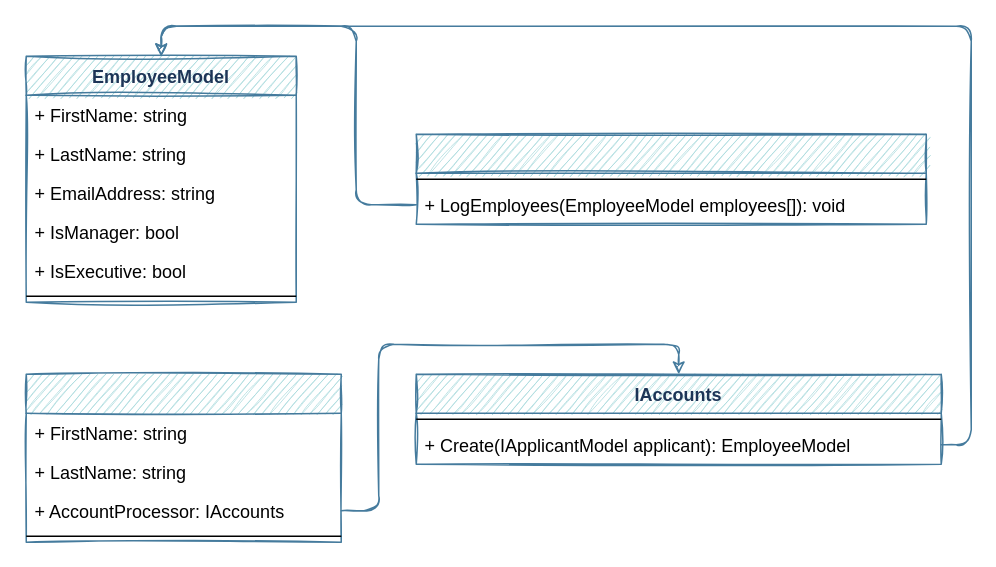
Image size: 996x567. Some labels were removed from this diagram. The shapes that lost their labels are listed below. From the top down, each one's box as (x1, y1, x2, y2) in pixels, then its label:
(415, 133, 926, 224): Logger
(25, 373, 341, 542): IApplicantModel
